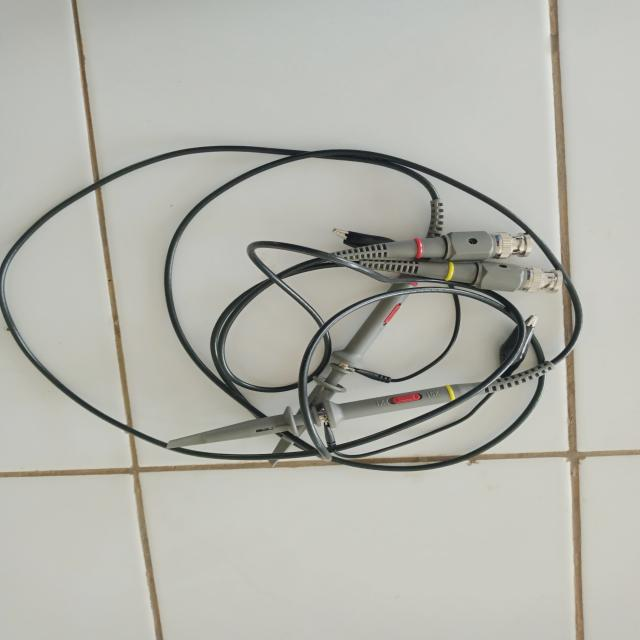CRO Probes: (0, 130, 580, 487)
